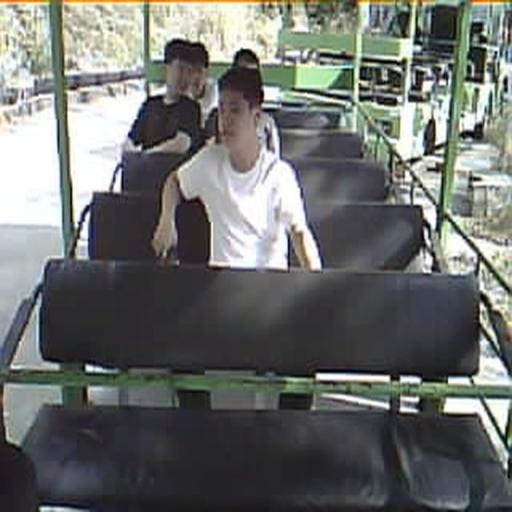persona: (151, 65, 323, 272), (120, 37, 210, 162), (204, 48, 280, 155)
